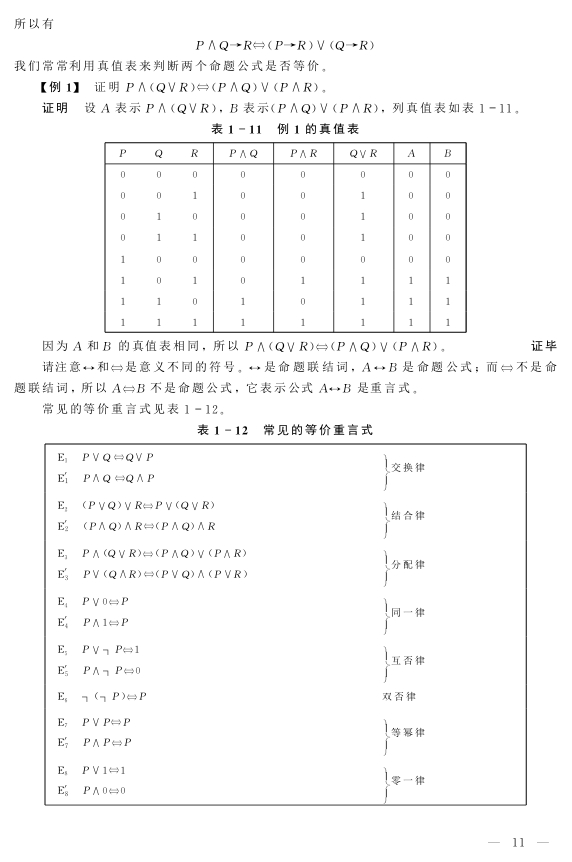table: (44, 444, 526, 805), (103, 142, 464, 333)
